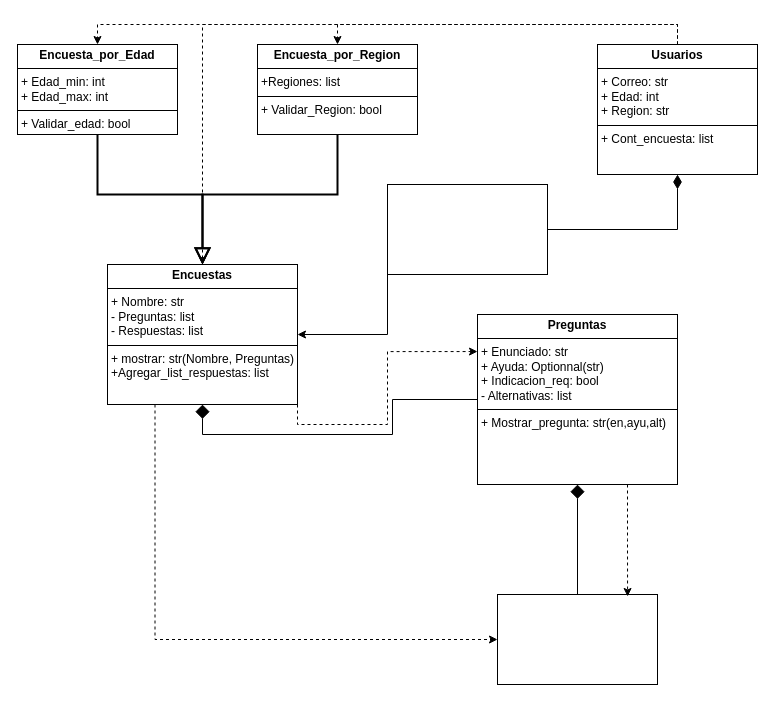
This 775x702 diagram has some shape labels left out. The shapes that lost their labels are listed below. From the top down, each one's centre as x and y in pixels, then its label:
the point at 467,229: List_Respuestas - Respuestas: list(int) + method(): Type
the point at 577,639: Alternativa + Contenido: str + Ayuda: Optionnal(str) + Mostrar_alternativa: str
